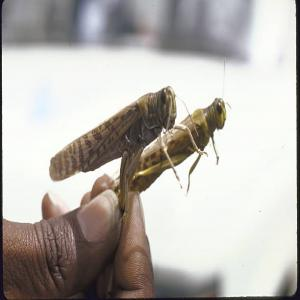locust: (48, 80, 191, 200)
